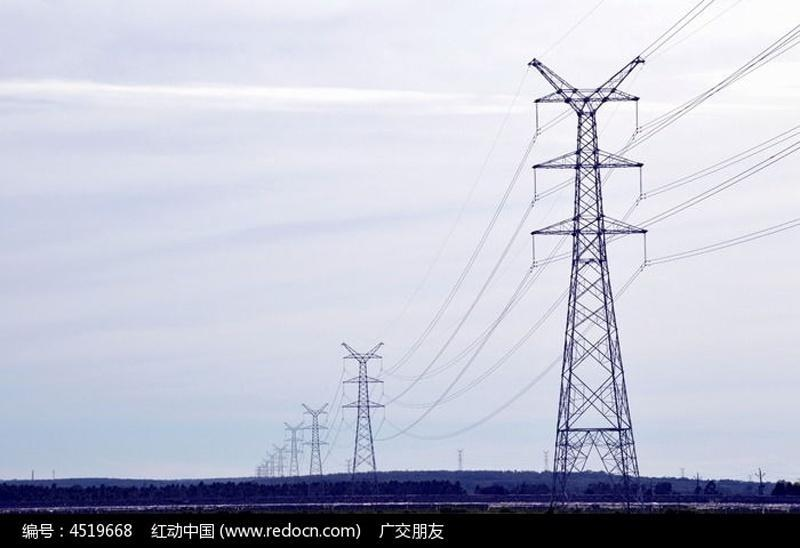power_tower: (525, 54, 653, 504), (338, 328, 389, 484), (300, 401, 334, 479), (280, 420, 306, 481), (272, 441, 290, 478), (265, 448, 277, 476), (540, 448, 552, 472), (455, 446, 466, 472), (262, 458, 270, 476), (343, 457, 352, 472), (255, 466, 263, 480)
